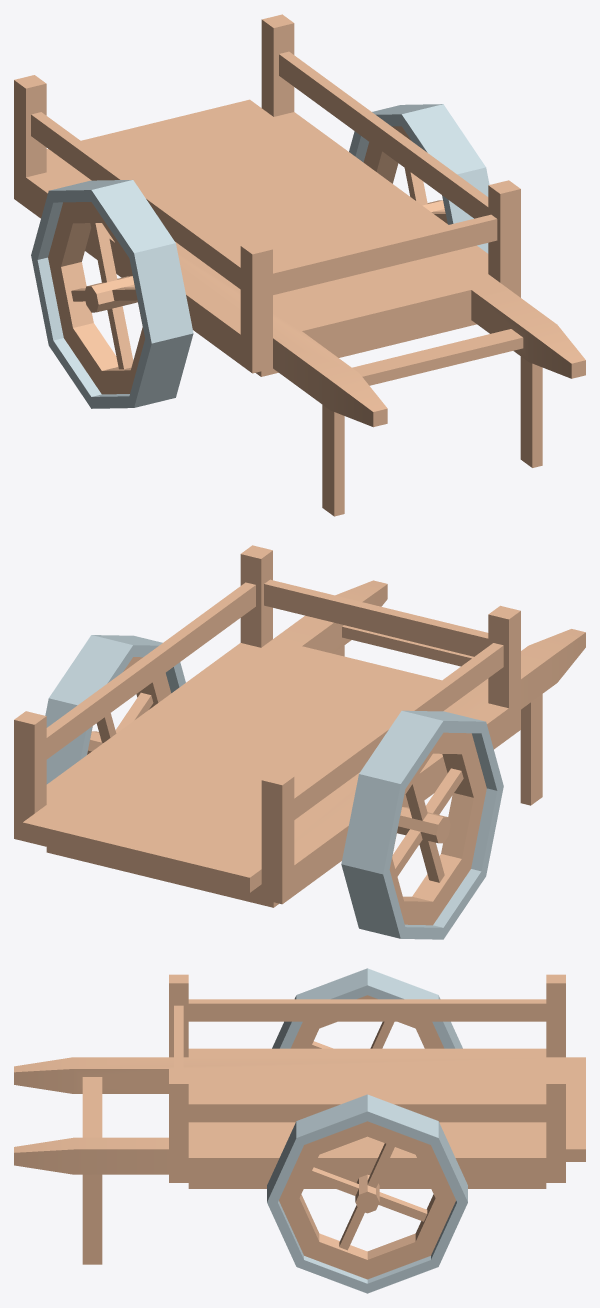
File: cart.glb
The picture shows the model from 3 angles, top to bottom: view 1: azimuth 30°, elevation 25°; view 2: azimuth 150°, elevation 25°; view 3: azimuth 270°, elevation 25°; orthographic projection. The views are drawn at different scales.
Visible parts, largest first — view 1: cart, wheel, wheel.001; view 2: cart, wheel, wheel.001; view 3: cart, wheel.001, wheel.
Part boxes in pixels (<box>): cart: <box>14,14,585,516</box>; wheel: <box>31,180,193,408</box>; wheel.001: <box>349,104,489,253</box>; cart: <box>14,545,585,907</box>; wheel: <box>341,710,503,939</box>; wheel.001: <box>45,635,185,784</box>; cart: <box>14,974,585,1264</box>; wheel.001: <box>267,1094,467,1293</box>; wheel: <box>272,968,462,1048</box>.
Bounding box in the file's own units: 0.8525 × 0.5355 × 1.44.
